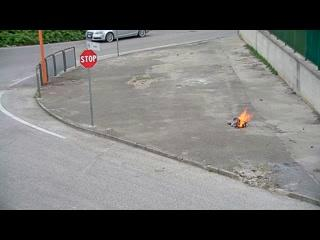fire: (239, 108, 252, 132)
